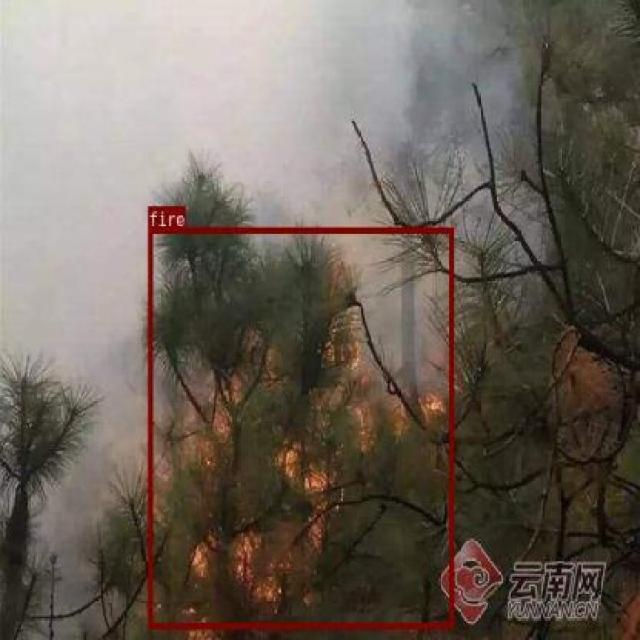Fire: (300, 402, 306, 428)
